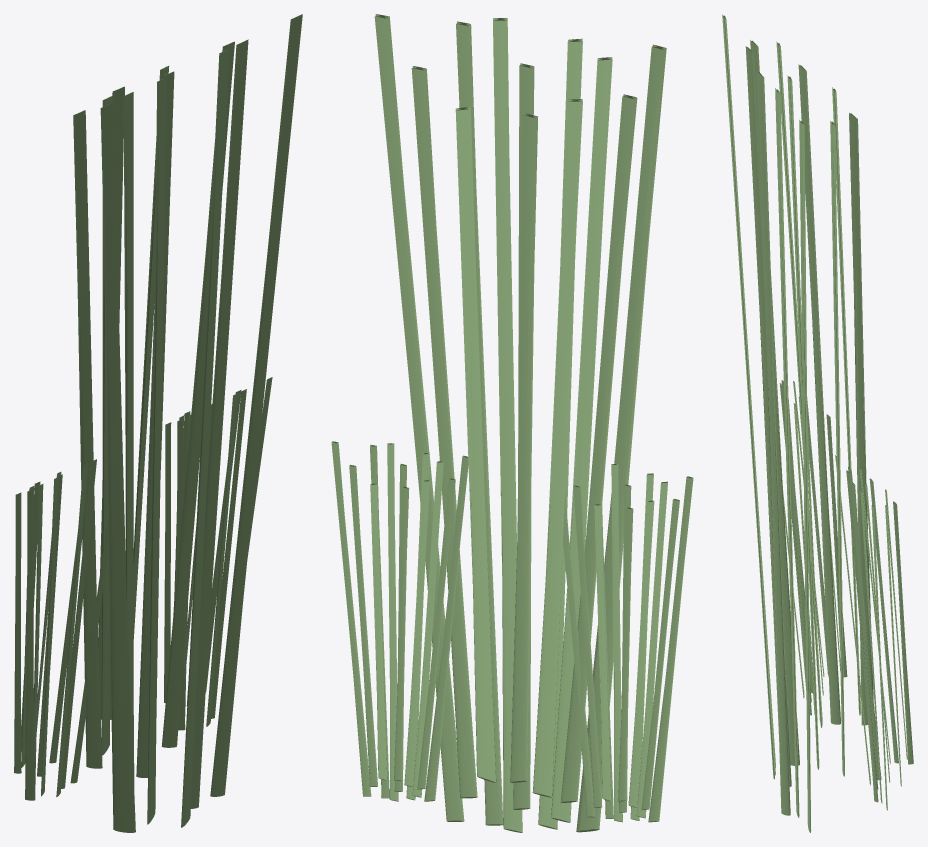
The model's file is grass_green.dae.
3 views of the same model, side by side, from view 1: azimuth 30°, elevation 25°; view 2: azimuth 150°, elevation 25°; view 3: azimuth 270°, elevation 25° (orthographic). The views are drawn at different scales.
Visible parts, largest first — view 1: Merged_Meshes6; view 2: Merged_Meshes6; view 3: Merged_Meshes6.
Boxes of the visible parts, x1,y1,x2,y2 form: Merged_Meshes6: (14, 14, 302, 832); Merged_Meshes6: (331, 14, 693, 832); Merged_Meshes6: (722, 14, 913, 832).
Size of the model in its own units: 0.8371 by 2.09 by 0.4794.
